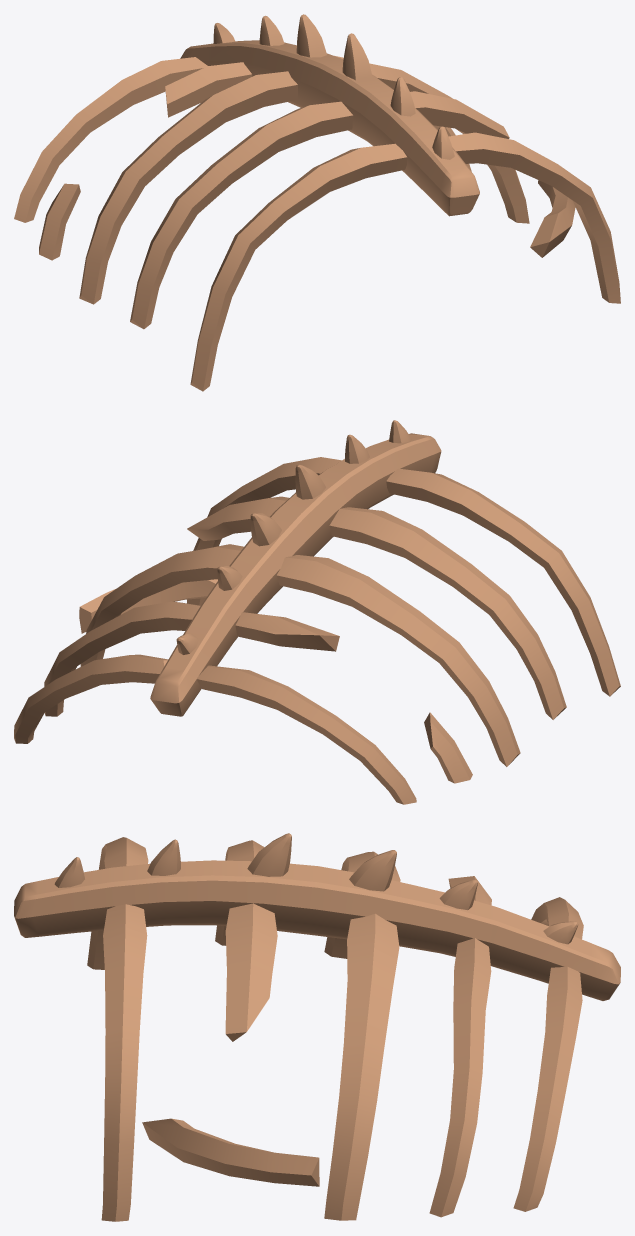
Rendered from LBone.glb.
3 views of the same model, one above another, from view 1: azimuth 30°, elevation 25°; view 2: azimuth 150°, elevation 25°; view 3: azimuth 270°, elevation 25° (orthographic). The views are drawn at different scales.
Parts seen in each view (by area): view 1: Environment_LargeBones; view 2: Environment_LargeBones; view 3: Environment_LargeBones.
Boxes of the visible parts, x1,y1,x2,y2 form: Environment_LargeBones: [14, 14, 620, 391]; Environment_LargeBones: [14, 420, 620, 804]; Environment_LargeBones: [14, 833, 620, 1221].
Bounding box in the file's own units: 2.28 × 1.21 × 2.33.
1 material, 1 textured.
